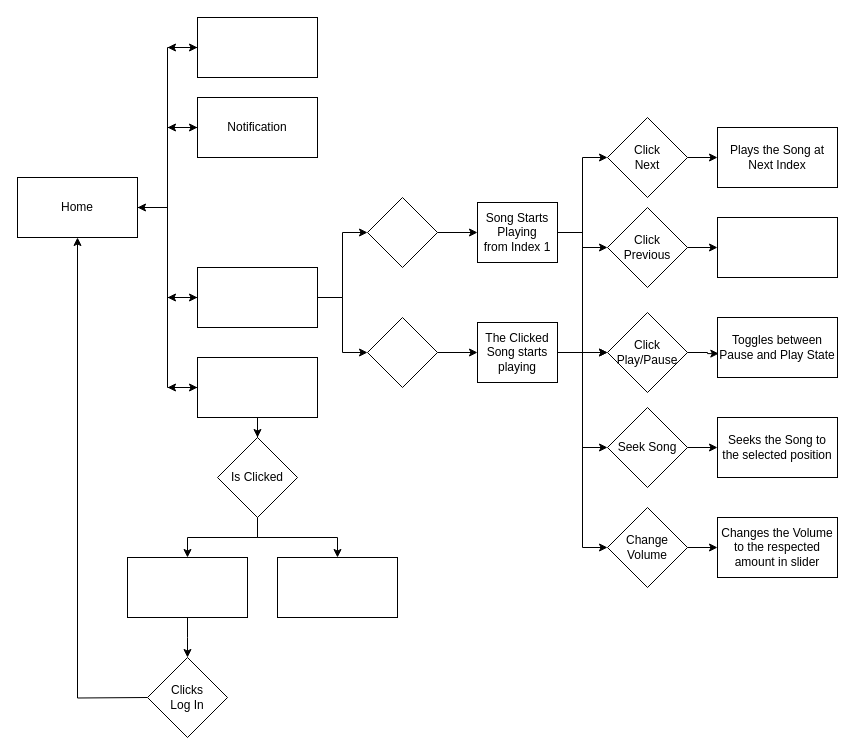
Some shapes in this 855 by 755 pixel diagram are drawn without their labels. The shapes that lost their labels are listed below. From the top down, each one's box as (x1, y1, x2, y2) in pixels, then its label:
(196, 16, 318, 78): Search
(366, 196, 438, 268): Play Button Clicked
(716, 216, 838, 278): Plays Song At Previous Index
(196, 266, 318, 328): Playlist
(366, 316, 438, 388): Song Clicked
(196, 356, 318, 418): Avatar
(126, 556, 248, 618): Login Page
(276, 556, 398, 618): Settings
